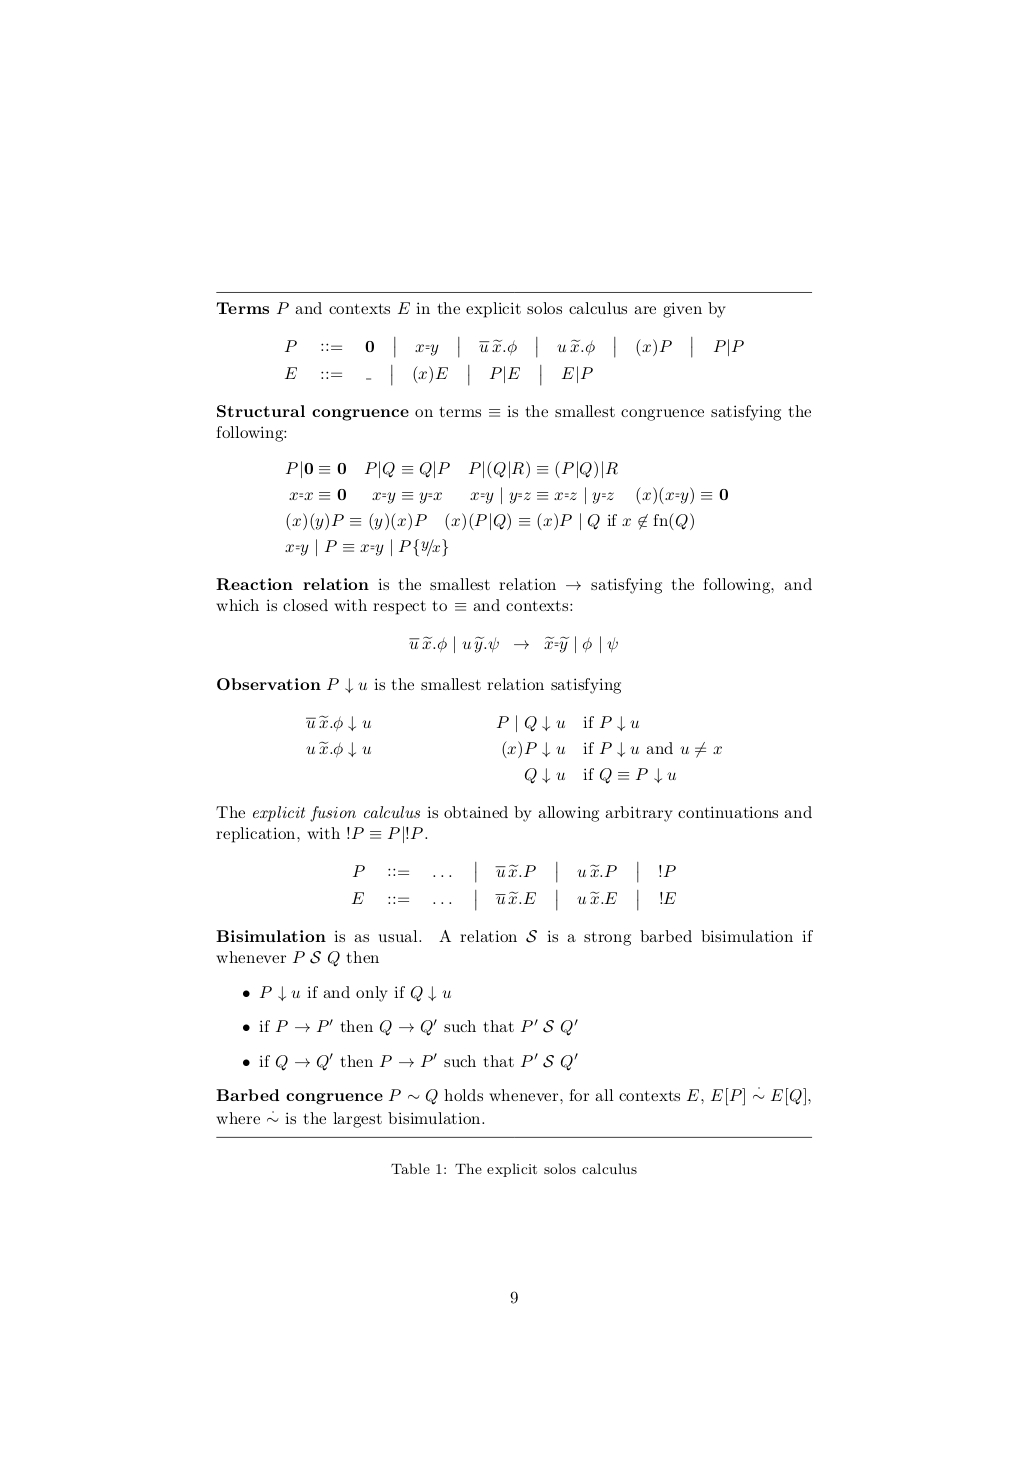figure: (216, 1136, 811, 1138)
formula: (285, 335, 743, 358), (289, 486, 728, 505), (306, 740, 721, 759), (286, 512, 693, 531), (351, 860, 675, 883), (351, 888, 675, 911), (285, 363, 592, 386), (306, 714, 639, 733), (285, 460, 617, 479), (409, 635, 617, 654), (285, 538, 449, 557), (524, 767, 676, 784)
